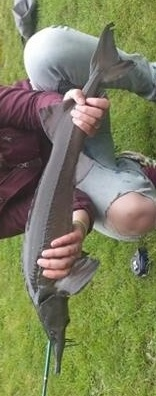Acipenseridae: (20, 20, 136, 376)
